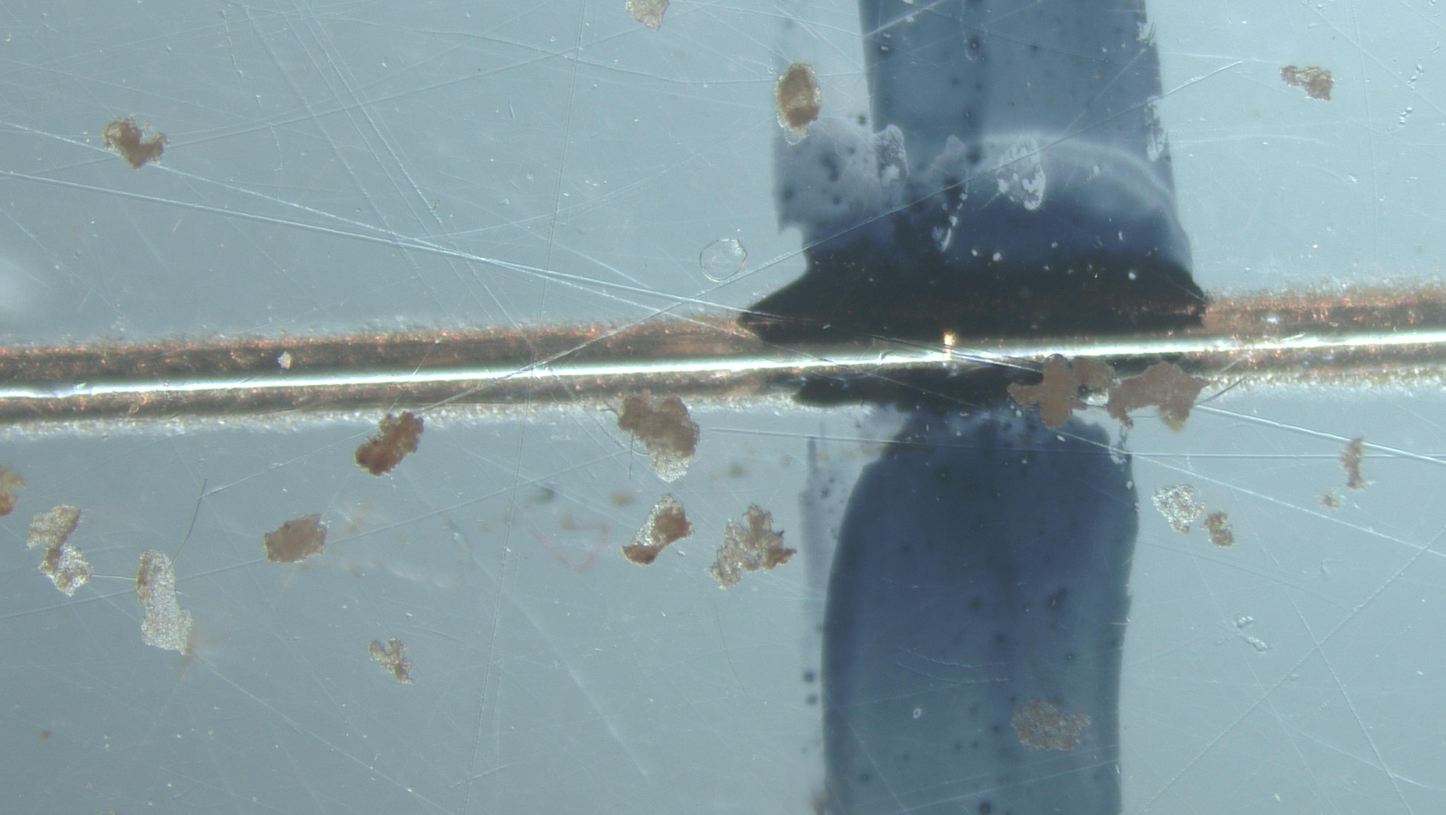dead: (699, 238, 747, 282)
